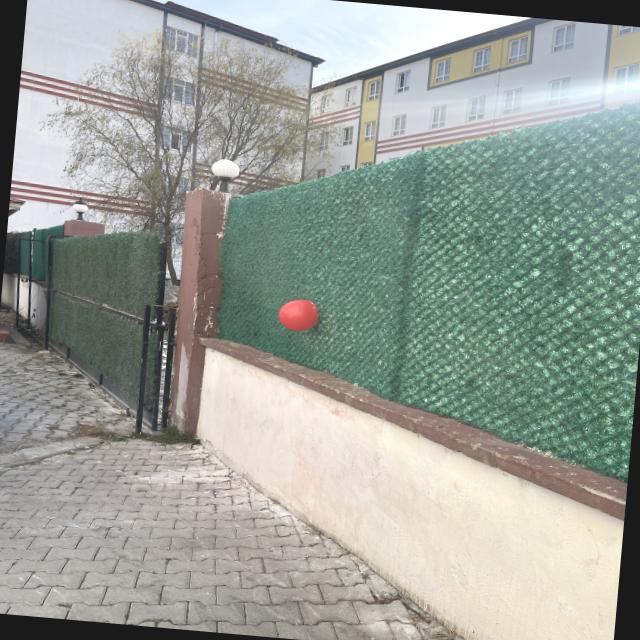balloon: (278, 299, 318, 330)
